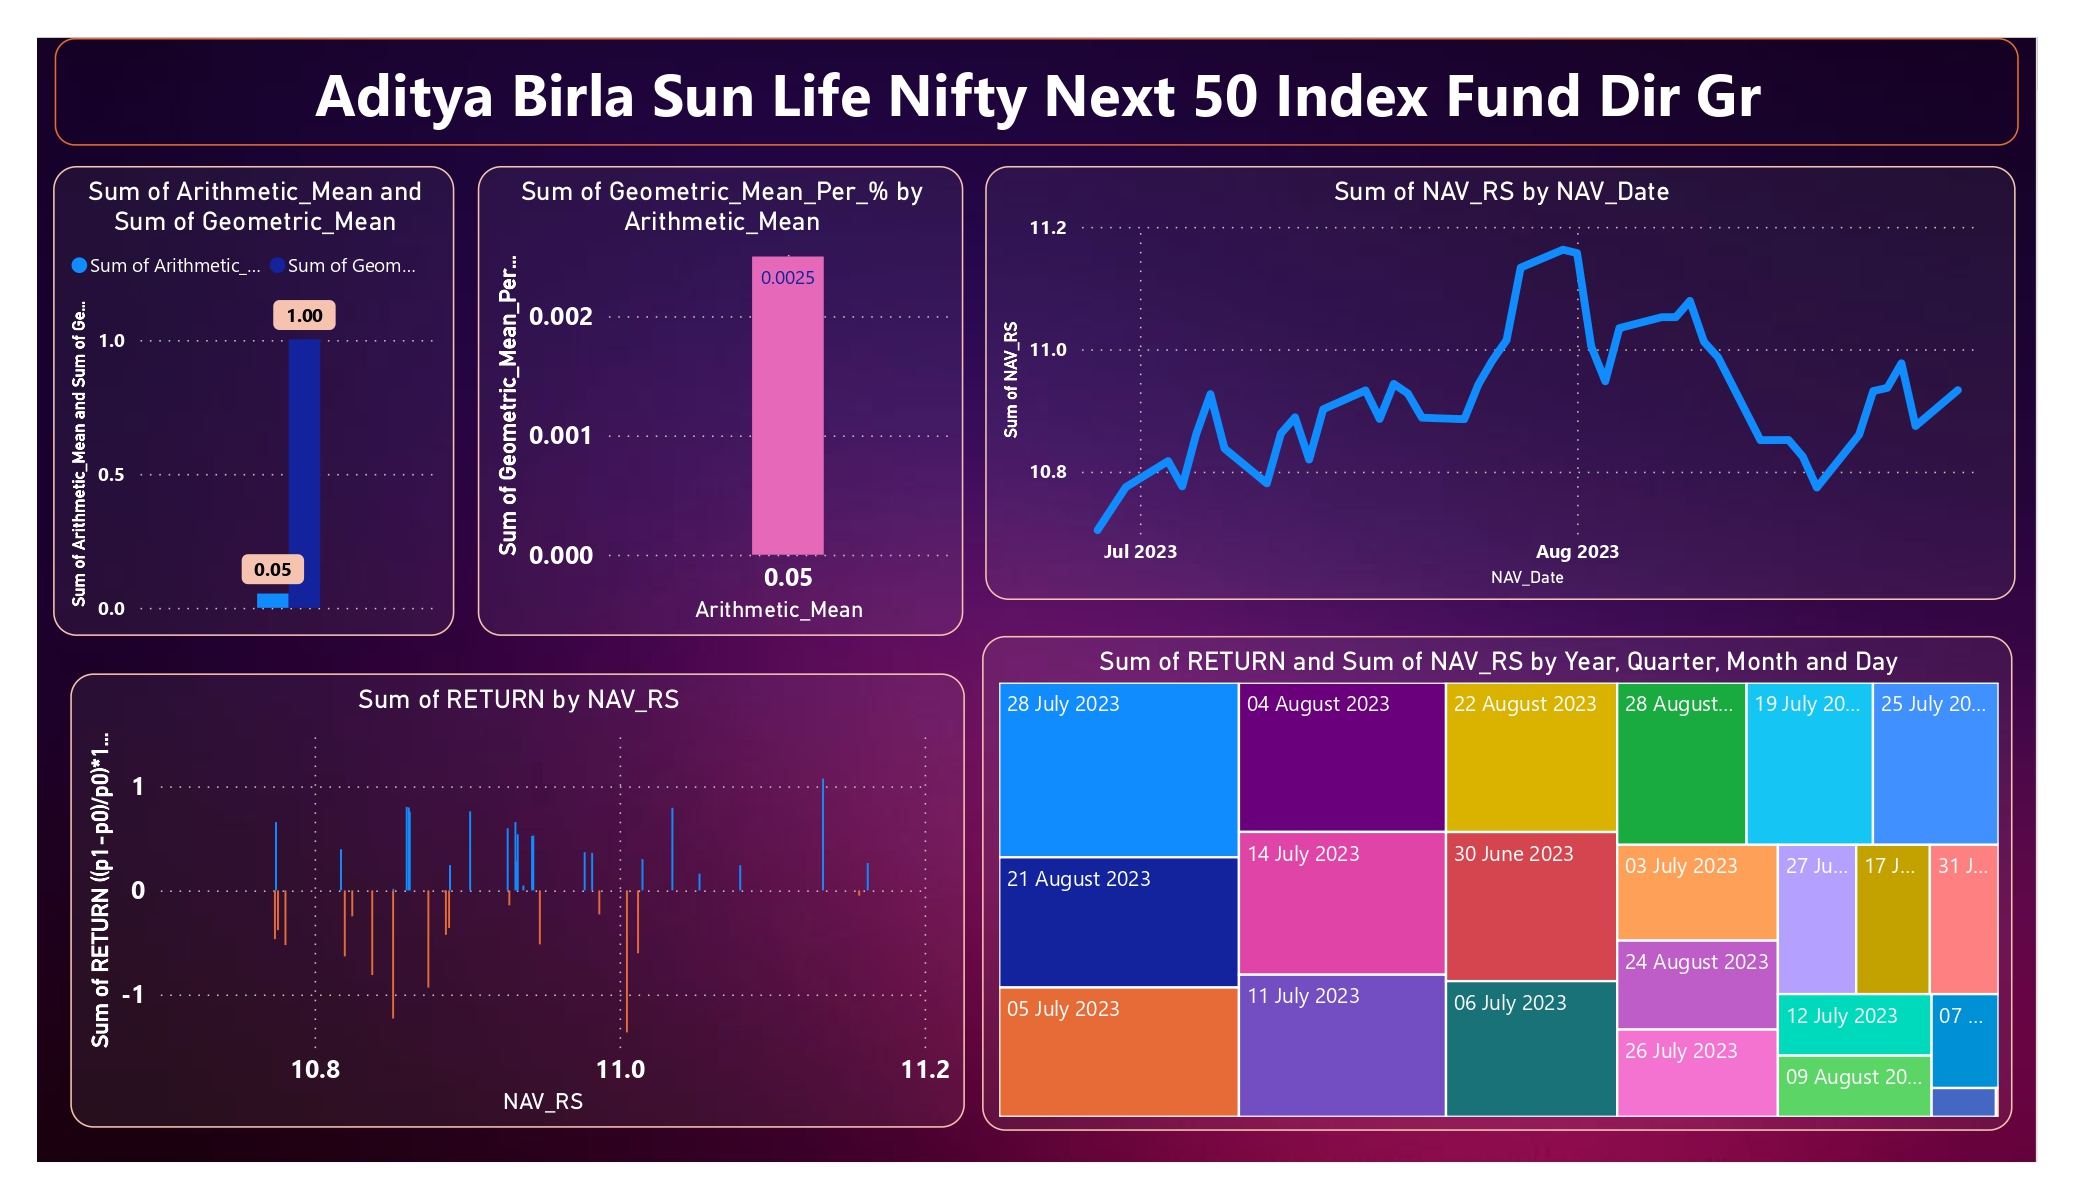

Layout of this report page (visuals, bound fields, positions):
{"tool":"powerbi","page":{"name":"Aditya Birla Sun Life Nifty Next 50 Index Fund Dir Gr","canvas":[1280,720],"ordinal":1},"visuals":[{"type":"textbox","box":[11.4,0,1257.1,68.6],"z":0},{"type":"lineChart","fields":{"Category":["Aditya Birla Sun Life Nifty Next 50 Index Fund Dir Gr.NAV_Date.Variation.Date Hierarchy.Month"],"Y":["Sum(Aditya Birla Sun Life Nifty Next 50 Index Fund Dir Gr.NAV_RS)"]},"box":[606.7,81.7,660,278.3],"z":1000},{"type":"treemap","title":"Sum of RETURN and Sum of NAV_RS by Year, Quarter, Month and Day","fields":{"Group":["Aditya Birla Sun Life Nifty Next 50 Index Fund Dir Gr.NAV_Date.Variation.Date Hierarchy.Year"],"Values":["Sum(Aditya Birla Sun Life Nifty Next 50 Index Fund Dir Gr.RETURN ((p1-p0)/p0)*100)"]},"box":[605,383.3,660,316.7],"z":2000},{"type":"clusteredColumnChart","title":"Sum of RETURN by NAV_RS","fields":{"Category":["Aditya Birla Sun Life Nifty Next 50 Index Fund Dir Gr.NAV_RS"],"Y":["Sum(Aditya Birla Sun Life Nifty Next 50 Index Fund Dir Gr.RETURN ((p1-p0)/p0)*100)"]},"box":[20.6,407.2,573.1,290.7],"z":3000},{"type":"clusteredColumnChart","fields":{"Y":["Sum(Aditya Birla Sun Life Nifty Next 50 Index Fund Dir Gr.Arithmetic_Mean)","Sum(Aditya Birla Sun Life Nifty Next 50 Index Fund Dir Gr.Geometric_Mean)"]},"box":[10,81.7,256.7,301.7],"z":4000},{"type":"columnChart","fields":{"Y":["Sum(Aditya Birla Sun Life Nifty Next 50 Index Fund Dir Gr.Geometric_Mean_Per_%)"],"Category":["Aditya Birla Sun Life Nifty Next 50 Index Fund Dir Gr.Arithmetic_Mean"]},"box":[281.7,81.7,311.7,301.7],"z":5000}]}

Visuals, with their boxes on the page's 1280x720 design canvas (x1, y1, x2, y2). These are canvas units, not pixel positions in the 2075x1200 screenshot, which may show the page scaled, cropped or inside an application window:
textbox: x1=11 y1=0 x2=1268 y2=69
lineChart - Aditya Birla Sun Life Nifty Next 50 Index Fund Dir Gr.NAV_Date.Variation.Date Hierarchy.Month x Sum(Aditya Birla Sun Life Nifty Next 50 Index Fund Dir Gr.NAV_RS): x1=607 y1=82 x2=1267 y2=360
"Sum of RETURN and Sum of NAV_RS by Year, Quarter, Month and Day" treemap: x1=605 y1=383 x2=1265 y2=700
"Sum of RETURN by NAV_RS" clusteredColumnChart: x1=21 y1=407 x2=594 y2=698
clusteredColumnChart - Sum(Aditya Birla Sun Life Nifty Next 50 Index Fund Dir Gr.Arithmetic_Mean) x Sum(Aditya Birla Sun Life Nifty Next 50 Index Fund Dir Gr.Geometric_Mean): x1=10 y1=82 x2=267 y2=383
columnChart - Sum(Aditya Birla Sun Life Nifty Next 50 Index Fund Dir Gr.Geometric_Mean_Per_%) x Aditya Birla Sun Life Nifty Next 50 Index Fund Dir Gr.Arithmetic_Mean: x1=282 y1=82 x2=593 y2=383
